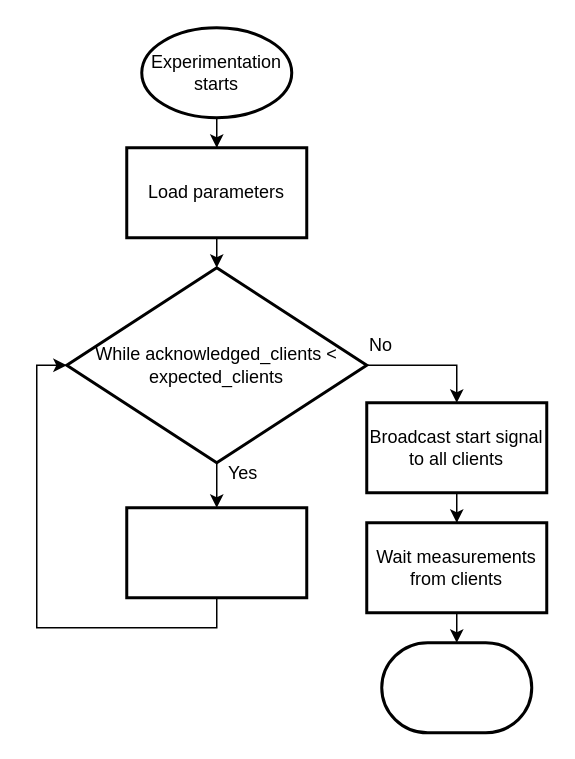
The diagram is 575 pixels wide and 759 high, and some of its shapes have lost their labels. The box of each missing label's shape, as (x1, y1, x2, y2) in pixels:
End of the experimentation: (380, 640, 532, 734)
Wait new subscription or acknowledgement: (124, 506, 308, 598)
